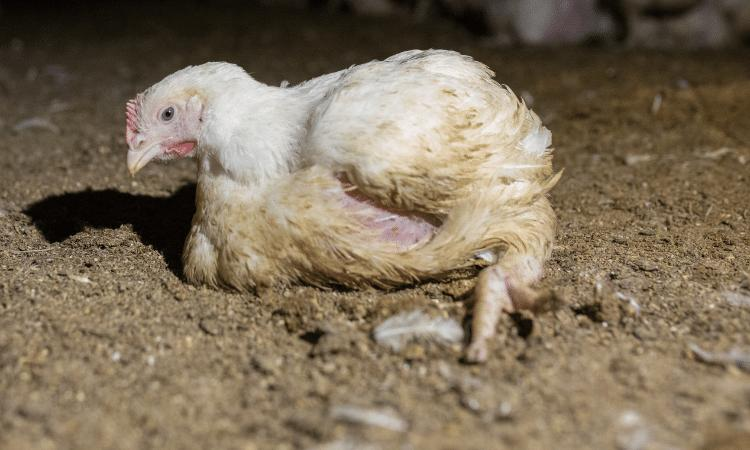AbNormal: (124, 35, 574, 364)
